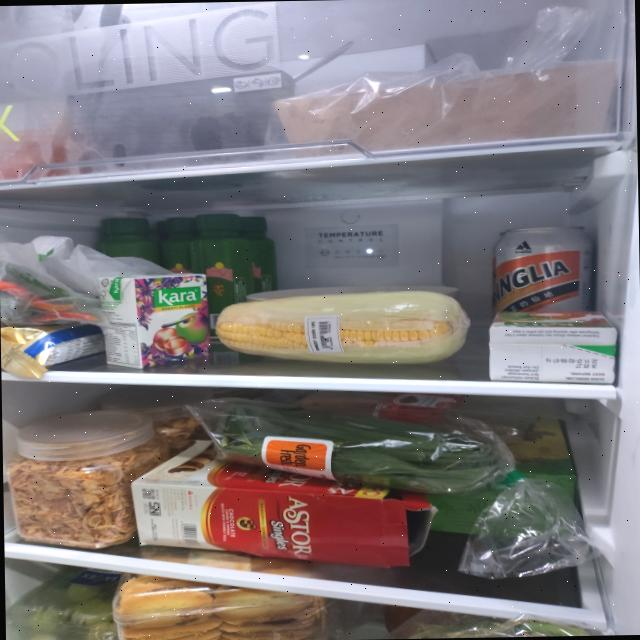chili: (0, 260, 97, 323)
coconut_milk: (97, 272, 213, 370), (487, 308, 618, 386)
corn: (214, 289, 472, 367)
grape: (25, 581, 120, 640)
leafy_greens: (212, 396, 504, 498)
